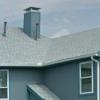Chimney: (18, 3, 51, 45)
